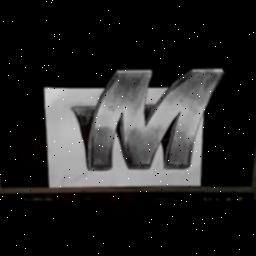m: (82, 61, 226, 173)
